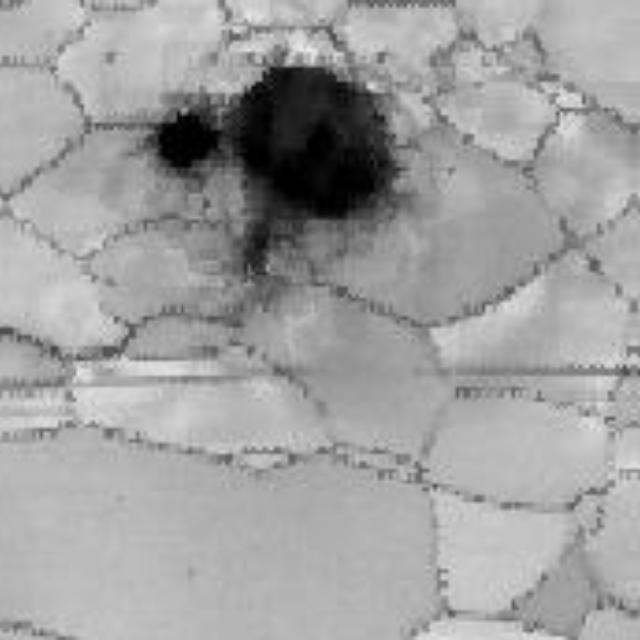good_void: (220, 60, 402, 316), (131, 89, 225, 178)
